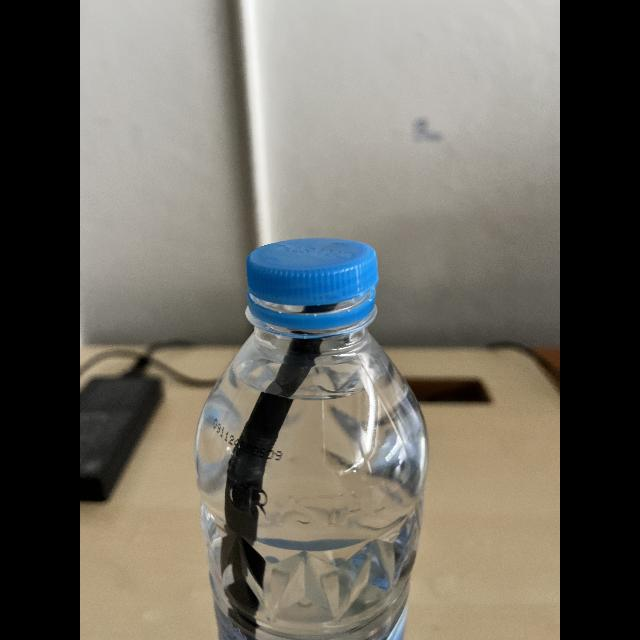plastic_bottle_cap: (242, 228, 382, 308)
